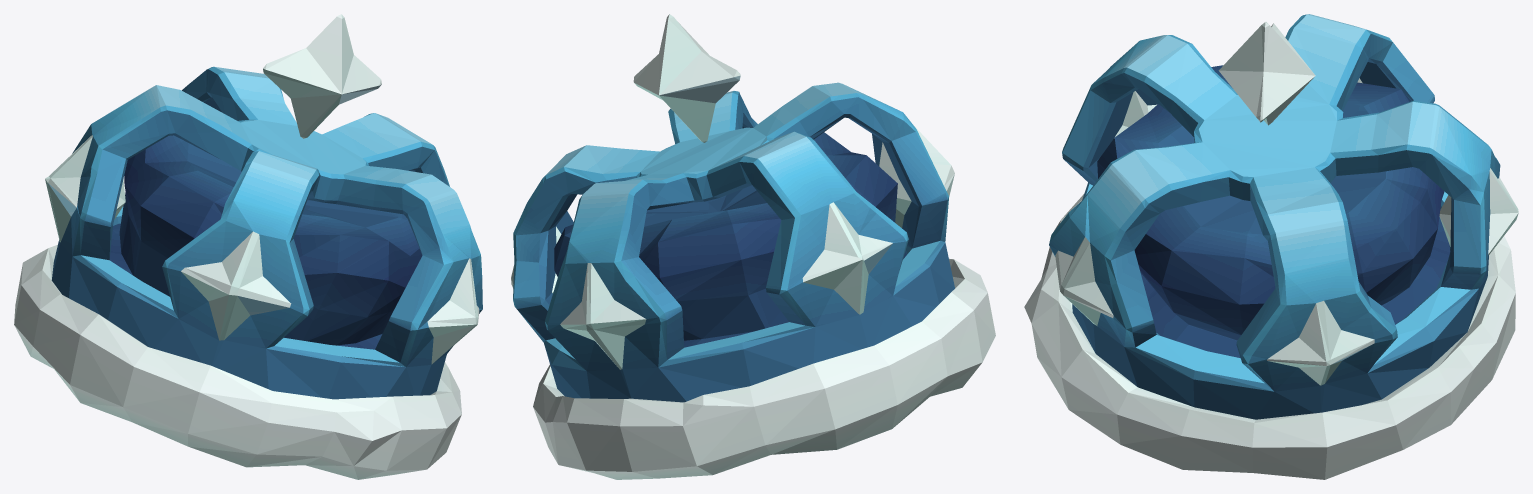
File: CharSkyKid_Hat_BirthdayHat_06.glb
3 views of the same model, side by side, from view 1: azimuth 30°, elevation 25°; view 2: azimuth 150°, elevation 25°; view 3: azimuth 270°, elevation 25° (orthographic). The views are drawn at different scales.
Parts seen in each view (by area): view 1: CharSkyKid_Hat_BirthdayHat_06; view 2: CharSkyKid_Hat_BirthdayHat_06; view 3: CharSkyKid_Hat_BirthdayHat_06.
Part boxes in pixels (left/top/right/bottom): CharSkyKid_Hat_BirthdayHat_06: left=14, top=14, right=482, bottom=479; CharSkyKid_Hat_BirthdayHat_06: left=511, top=14, right=995, bottom=479; CharSkyKid_Hat_BirthdayHat_06: left=1024, top=14, right=1518, bottom=479.
Size of the model in its own units: 2.1 by 1.99 by 2.09.
Materials: 1 (1 with a texture image).
